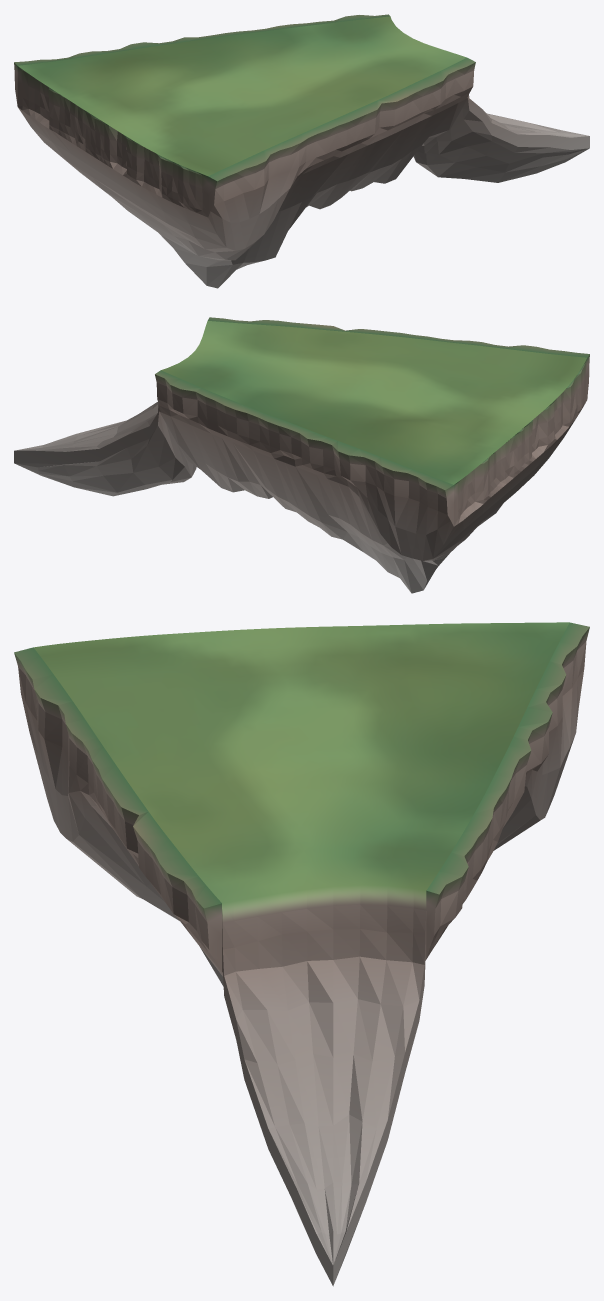
The model's file is piece_cottage.glb.
3 views of the same model, one above another, from view 1: azimuth 30°, elevation 25°; view 2: azimuth 150°, elevation 25°; view 3: azimuth 270°, elevation 25° (orthographic). The views are drawn at different scales.
Visible parts, largest first — view 1: piece_cottage, skirt_wetland, skirt_highland; view 2: piece_cottage, skirt_highland, skirt_wetland; view 3: piece_cottage, skirt_wetland, skirt_highland.
Part boxes in pixels (x1,y1,x2,y2): piece_cottage: [17, 16, 589, 288]; skirt_wetland: [208, 57, 475, 250]; skirt_highland: [14, 14, 389, 105]; piece_cottage: [14, 321, 587, 593]; skirt_highland: [155, 370, 453, 560]; skirt_wetland: [208, 317, 589, 398]; piece_cottage: [33, 622, 569, 1286]; skirt_wetland: [14, 647, 221, 971]; skirt_highland: [426, 622, 589, 958].
Size of the model in its own units: 25.6 by 9.78 by 15.25.
